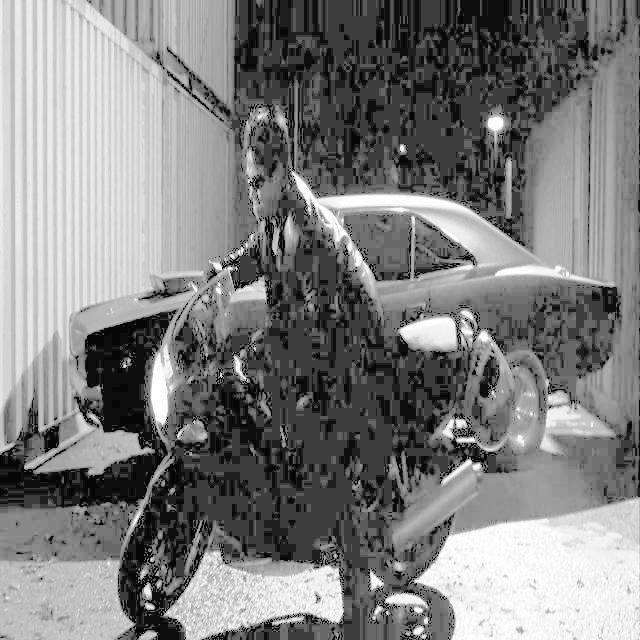Car: (58, 120, 637, 461)
Motorcycle: (145, 287, 534, 624)
